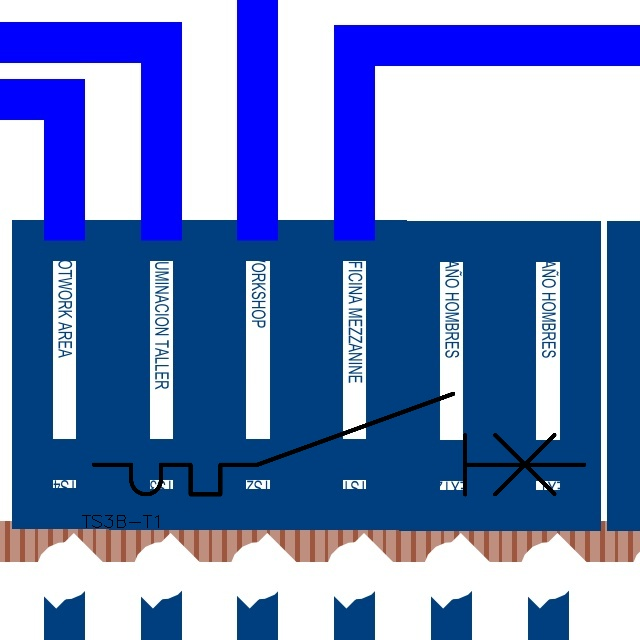interruptor_termomagnetico: (81, 381, 597, 507)
